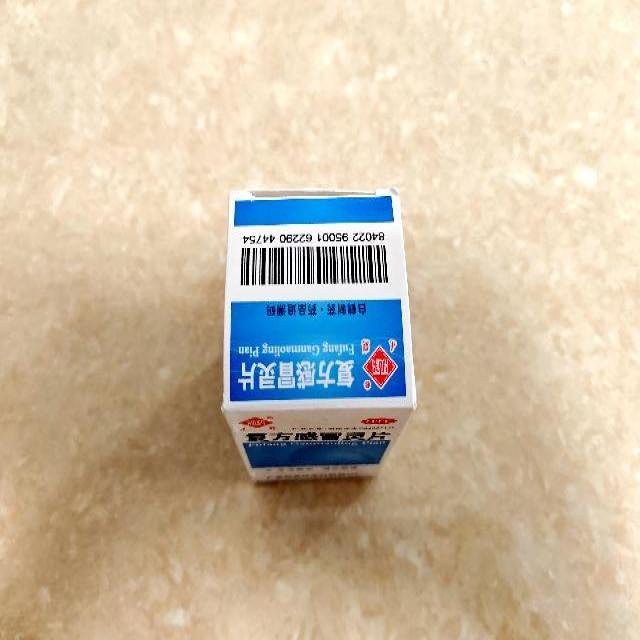box: (224, 187, 418, 482)
